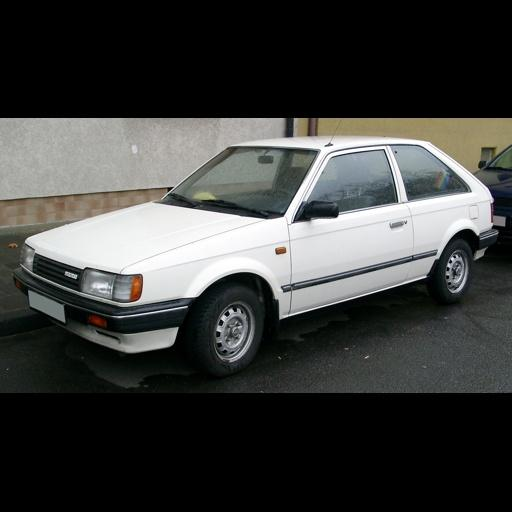car: (474, 144, 511, 243)
hatchback: (12, 135, 496, 376)
